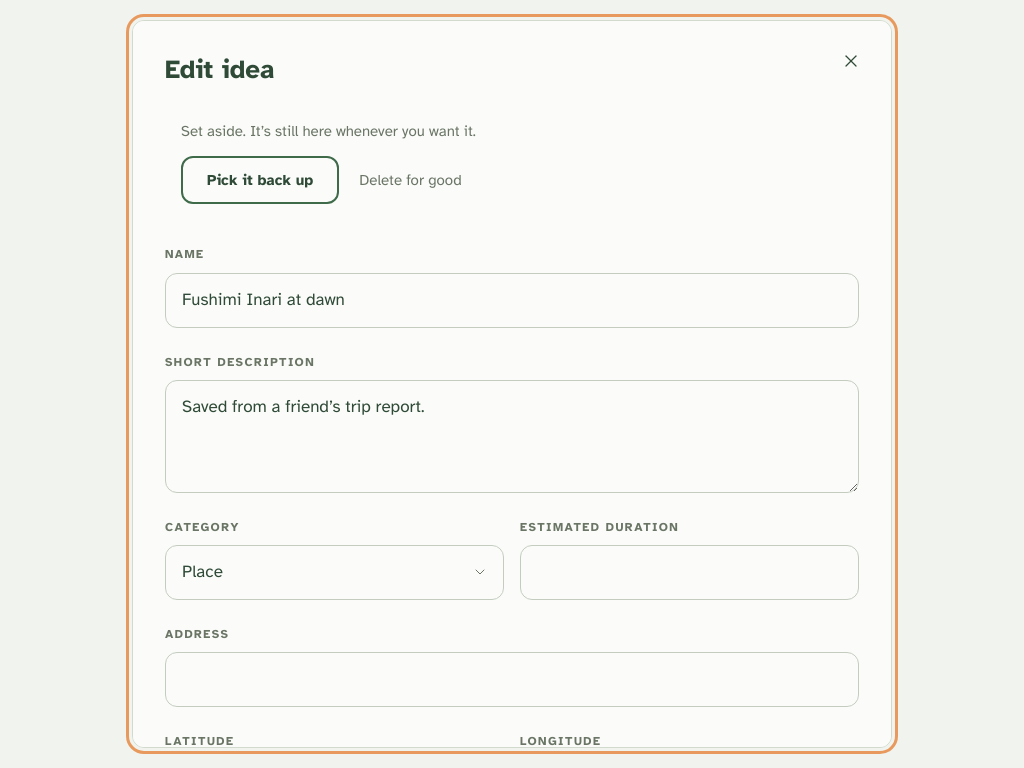
Test: EntryDetail — deleting a set-aside idea for good › asks first, then leaves the screen it was the detail of
expect the heading "Edit idea" is shown: met, box left=165, top=53, right=274, bottom=86
Step 1. Click the button "Delete for good" → (410, 180), box left=355, top=156, right=466, bottom=204
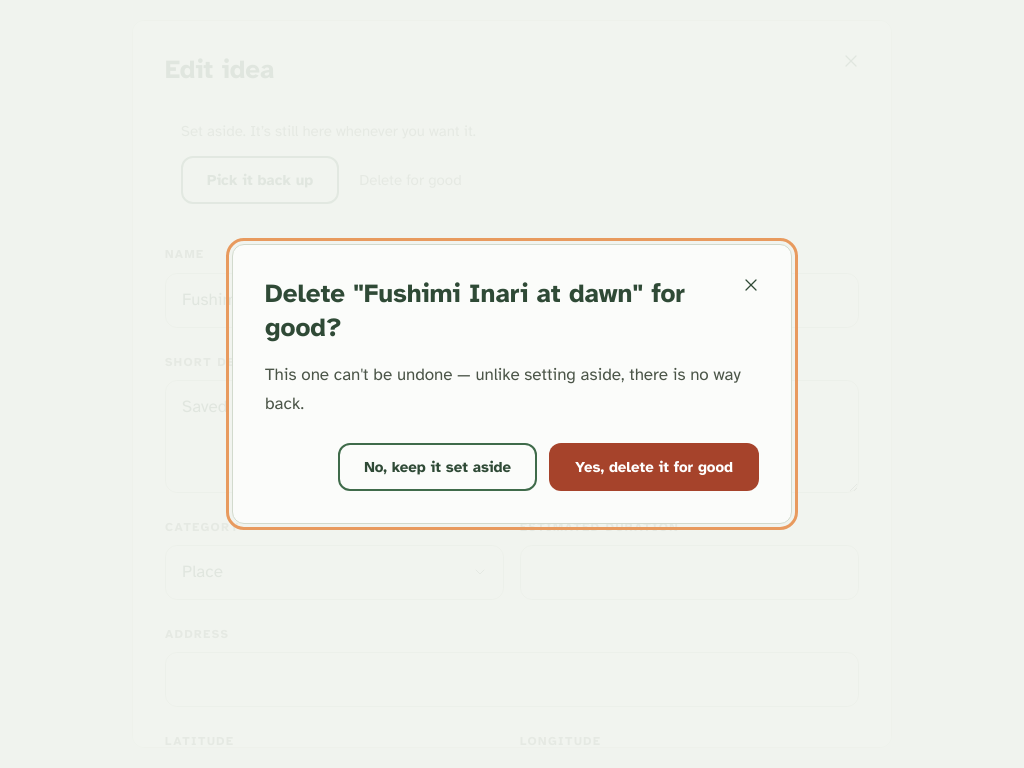
Step 2. Click the button "Yes, delete it for good" → (654, 467), box left=549, top=443, right=759, bottom=491
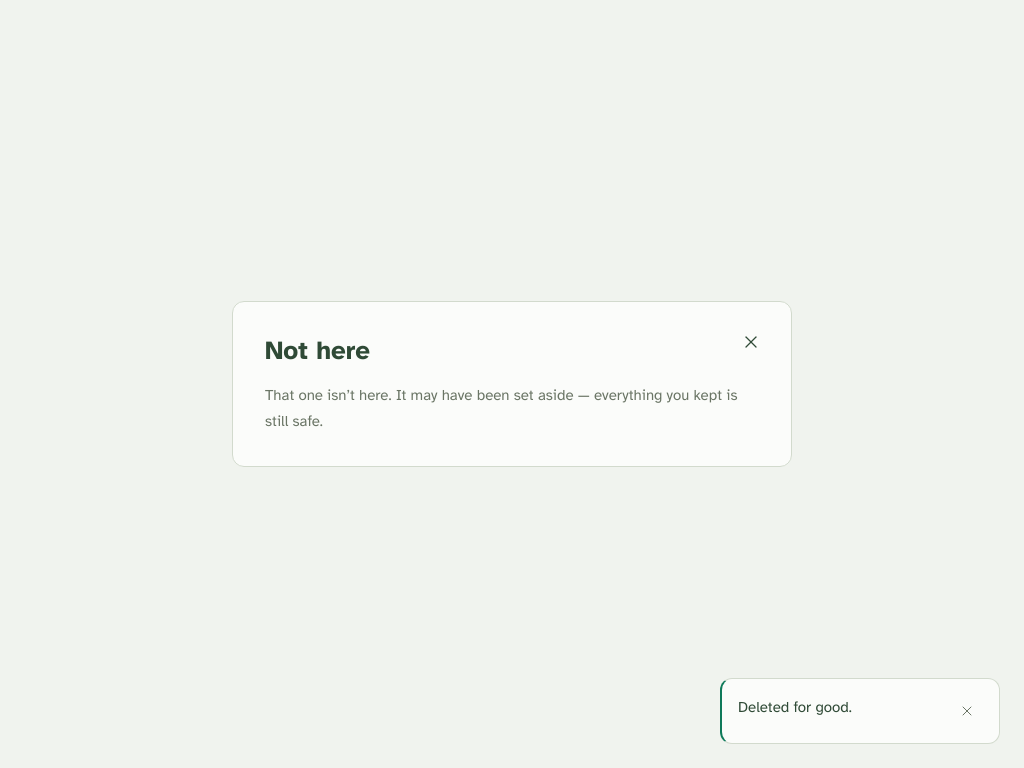
expect the text "Deleted for good." is shown: met, box left=738, top=698, right=852, bottom=716
